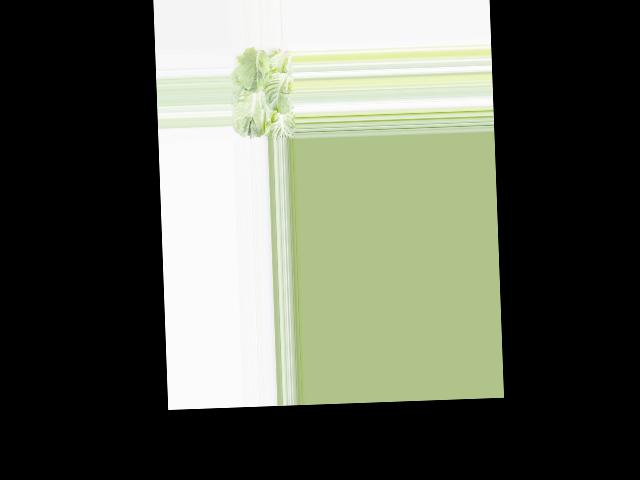lettuce: (231, 48, 296, 139)
